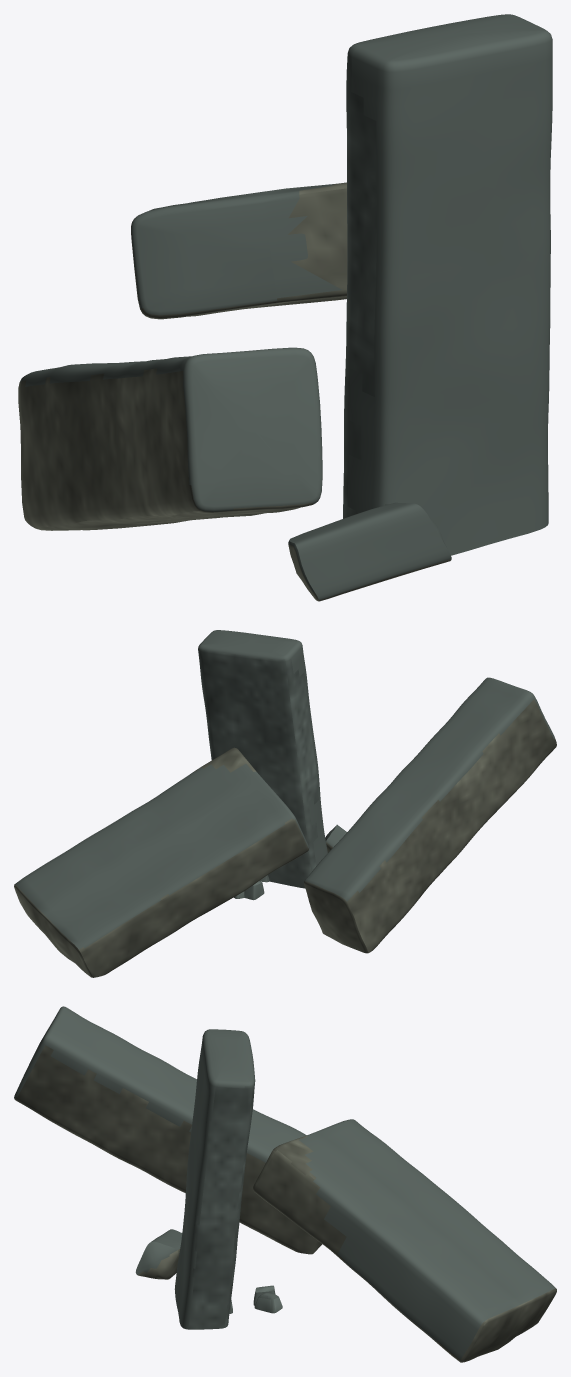
Rendered from AraHenge08.glb.
The picture shows the model from 3 angles, top to bottom: view 1: azimuth 30°, elevation 25°; view 2: azimuth 150°, elevation 25°; view 3: azimuth 270°, elevation 25°; orthographic projection. The views are drawn at different scales.
Parts seen in each view (by area): view 1: AraHenge08; view 2: AraHenge08; view 3: AraHenge08.
Part boxes in pixels (bbox=[...]): AraHenge08: bbox=[18, 14, 552, 601]; AraHenge08: bbox=[14, 630, 556, 977]; AraHenge08: bbox=[14, 1006, 556, 1362].
Bounding box in the file's own units: 4.22 × 2.86 × 5.36.
2 materials, 1 textured.
